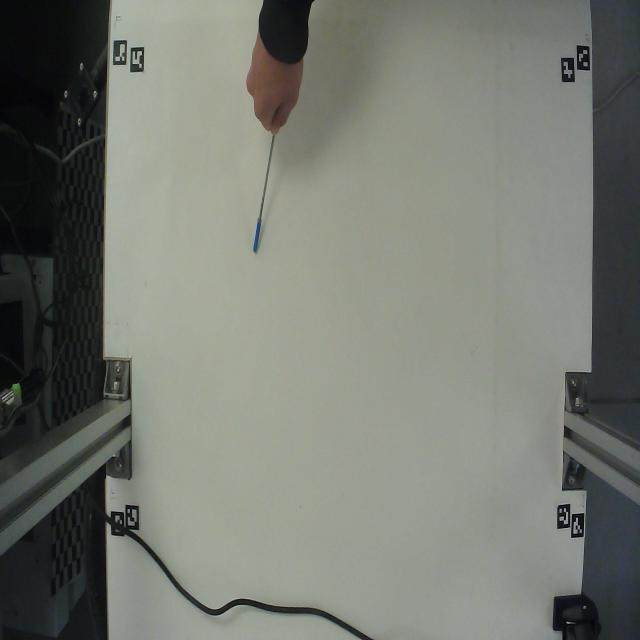Pres: (221, 120, 300, 287)
